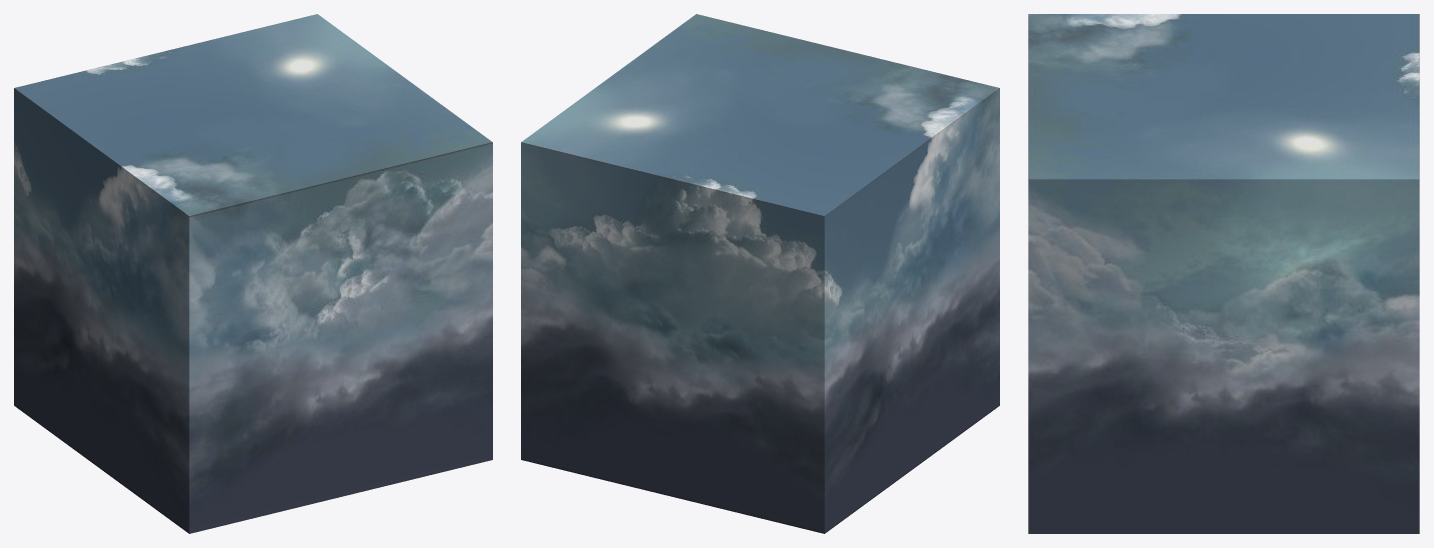
The model's file is terrain.obj.
3 renders of one model, left to right at view 1: azimuth 30°, elevation 25°; view 2: azimuth 150°, elevation 25°; view 3: azimuth 270°, elevation 25°, orthographic. The views are drawn at different scales.
Visible parts, largest first — view 1: Cube_Cube.001; view 2: Cube_Cube.001; view 3: Cube_Cube.001.
Boxes of the visible parts, x1,y1,x2,y2 form: Cube_Cube.001: [14, 14, 492, 533]; Cube_Cube.001: [521, 14, 999, 533]; Cube_Cube.001: [1028, 14, 1419, 533].
Bounding box in the file's own units: 100 × 100 × 100.
Materials: 3 (3 with a texture image).
